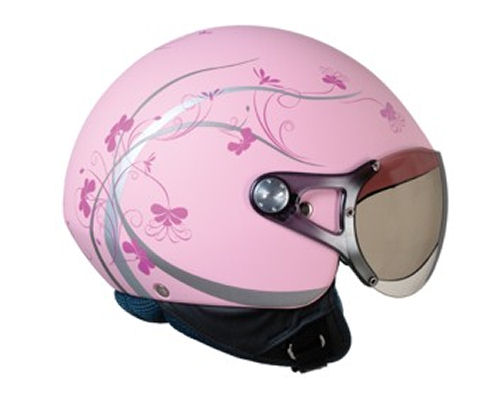helmet: (74, 53, 431, 308)
